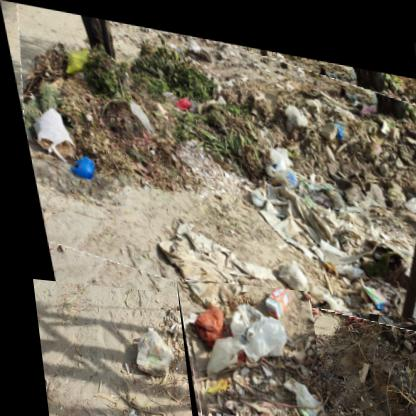Garbage: (1, 1, 416, 315), (170, 275, 320, 416)
